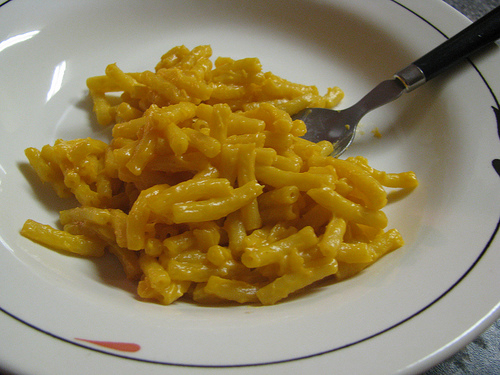macncheese: (16, 42, 418, 306)
